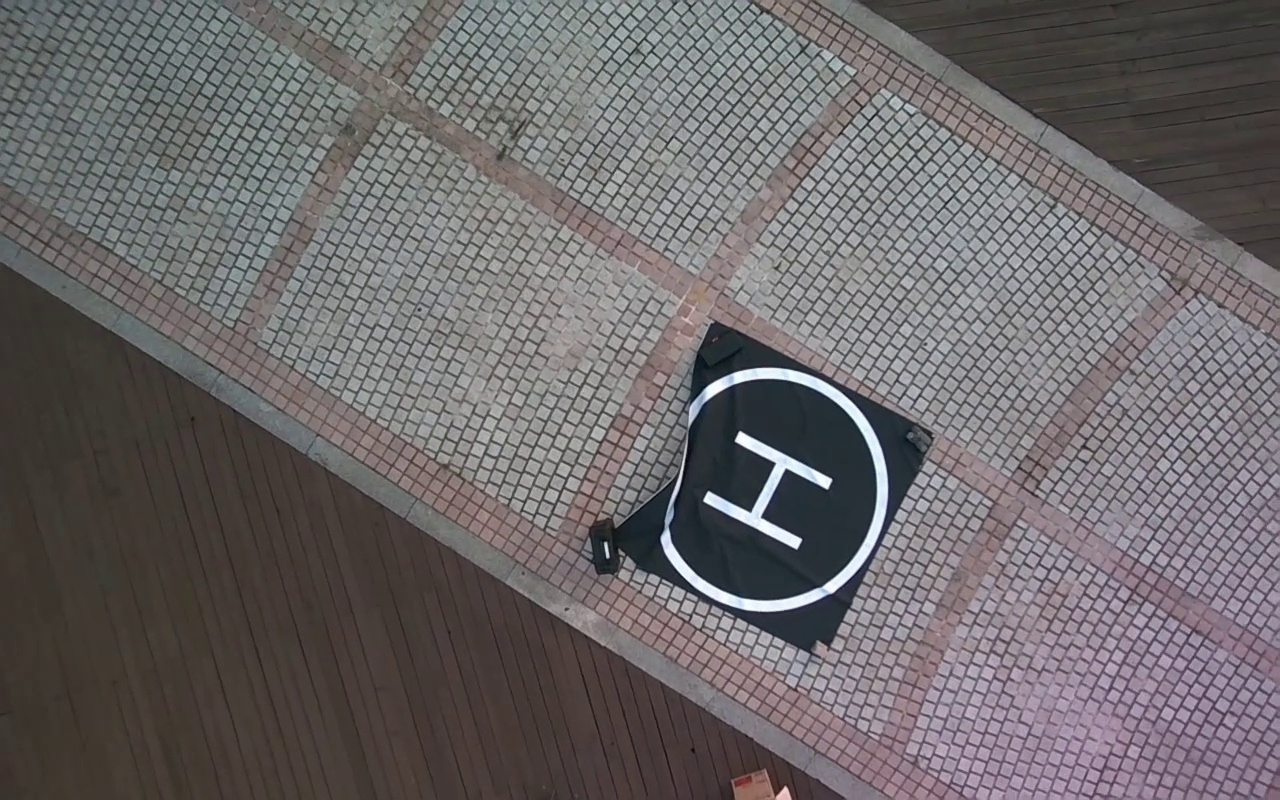H: (703, 430, 834, 555)
